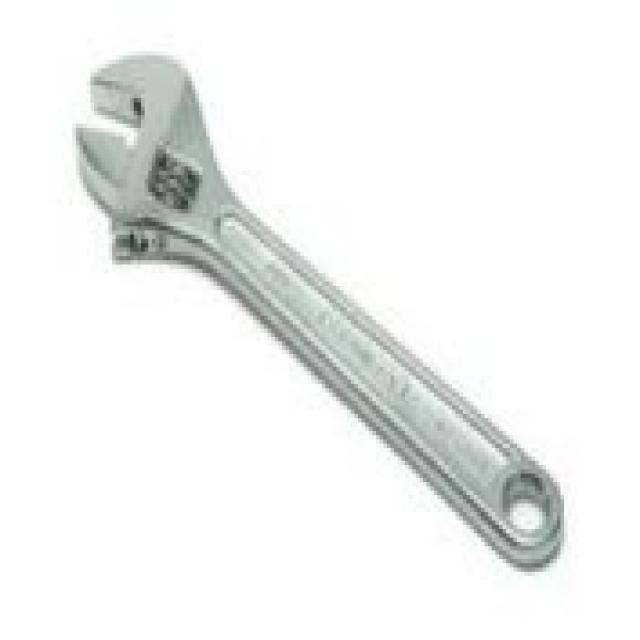wrench: (53, 29, 578, 586)
